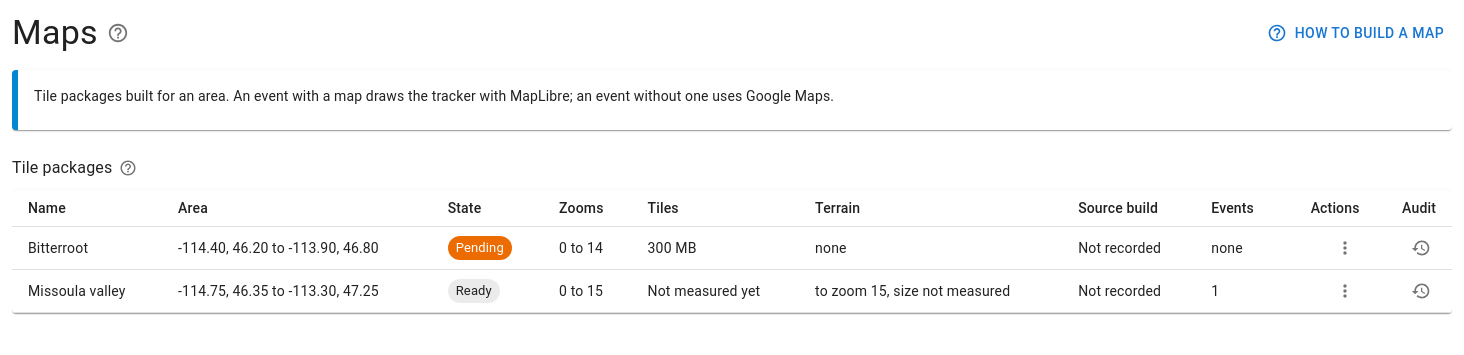
MapsList › shows the title, area, state chip, and lines per row with the events using it
The width and height of the screenshot is (1464, 355).
Hover over the text "1" at (1215, 291), box [1211,283,1219,299]
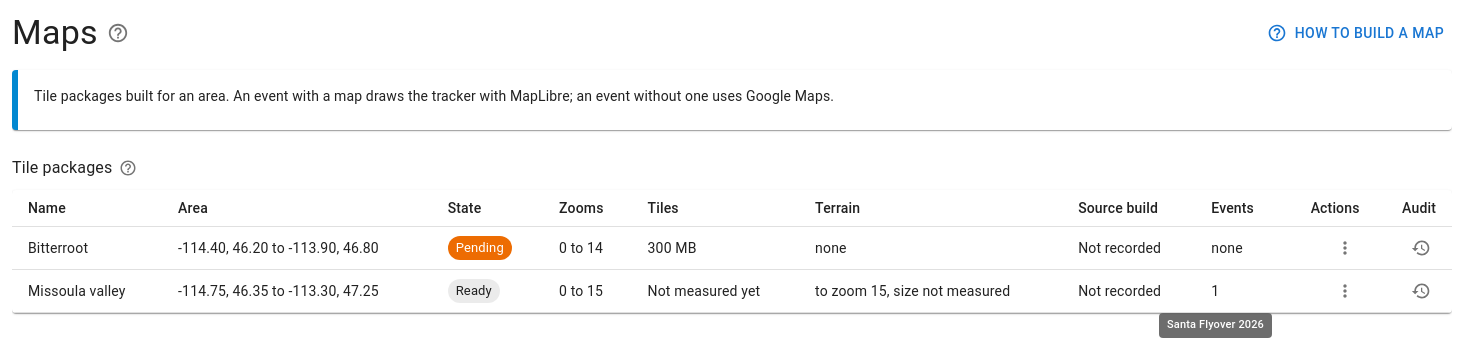
Expected: the tooltip reads "Santa Flyover 2026", [1167,318,1264,331]
